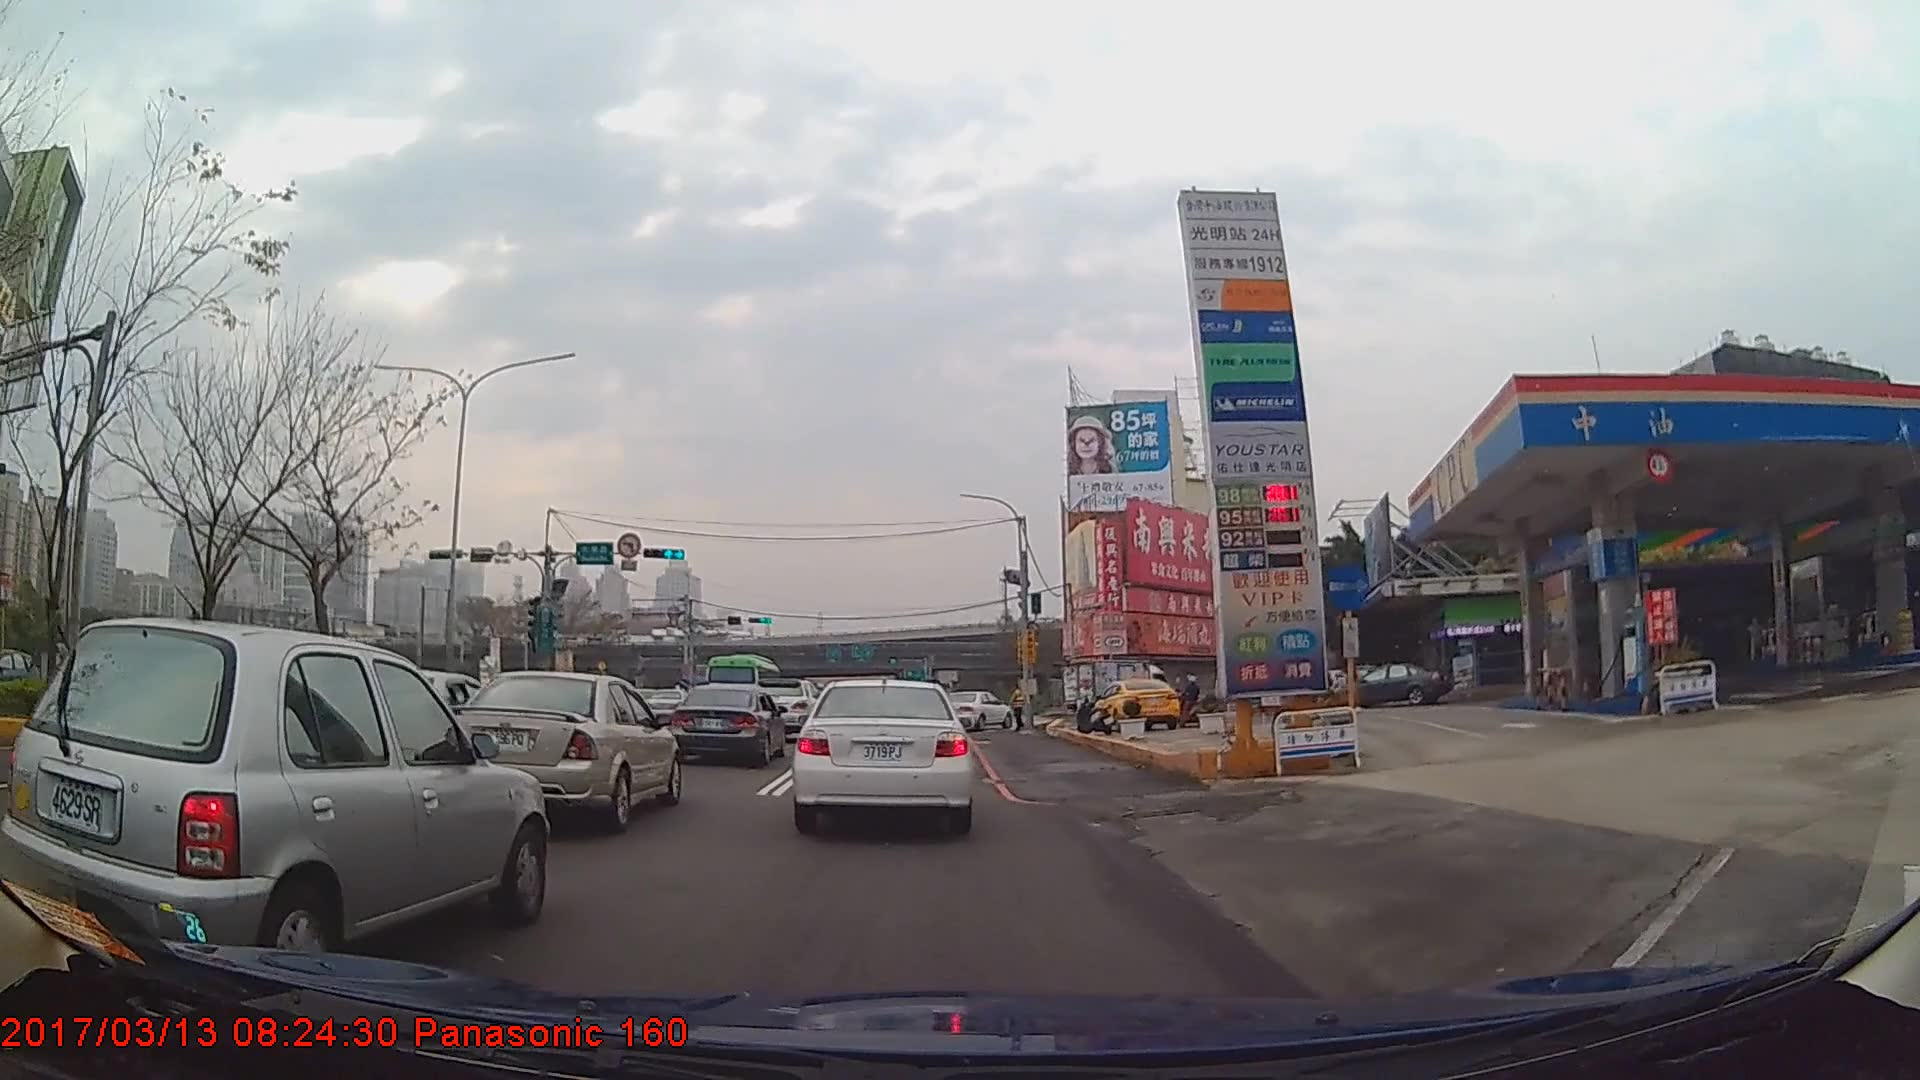rider: (1300, 664, 1335, 724), (1177, 674, 1213, 730)
vehicle: (0, 616, 546, 979), (439, 668, 684, 831), (796, 675, 973, 834), (666, 681, 790, 767), (1059, 657, 1170, 719), (1335, 663, 1451, 707), (702, 653, 782, 715), (1095, 676, 1182, 730), (941, 688, 1014, 731), (0, 645, 40, 707)
